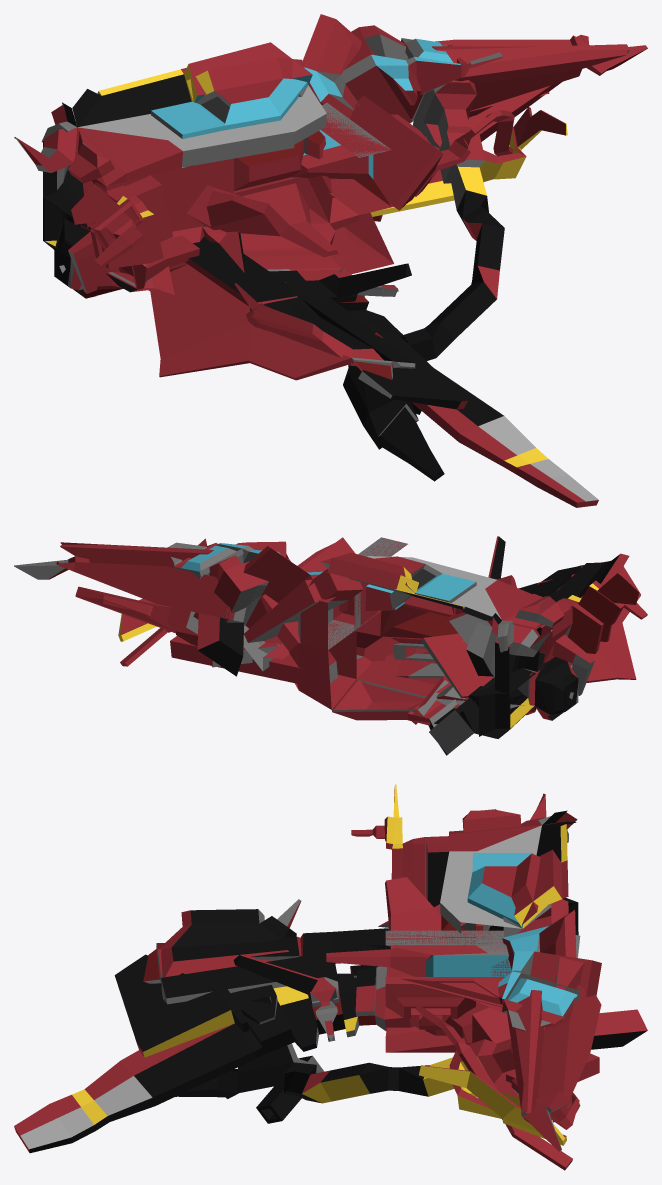
The model's file is freighter.glb.
3 renders of one model, top to bottom at view 1: azimuth 30°, elevation 25°; view 2: azimuth 150°, elevation 25°; view 3: azimuth 270°, elevation 25°, orthographic. The views are drawn at different scales.
Parts seen in each view (by area): view 1: Cube; view 2: Cube; view 3: Cube.
Part boxes in pixels (x1,y1,x2,y2): Cube: (14,14,647,507); Cube: (14,536,647,755); Cube: (14,784,647,1170).
Bounding box in the file's own units: 6.08 × 2.37 × 5.41.
